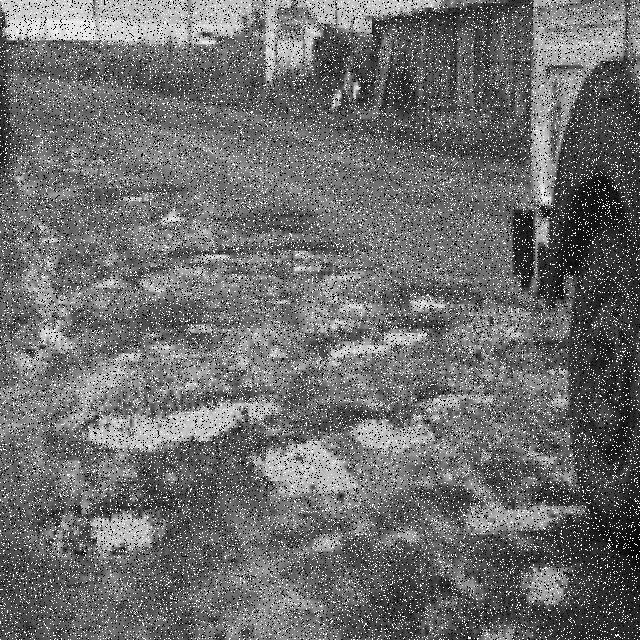pothole: (86, 390, 257, 452), (252, 440, 360, 498), (344, 292, 446, 349), (67, 514, 160, 559), (21, 304, 63, 382), (374, 395, 446, 440), (490, 502, 573, 531), (533, 568, 566, 605), (298, 444, 323, 489), (132, 263, 174, 288), (183, 246, 227, 267), (185, 320, 217, 337), (480, 625, 515, 640), (121, 526, 139, 551)
